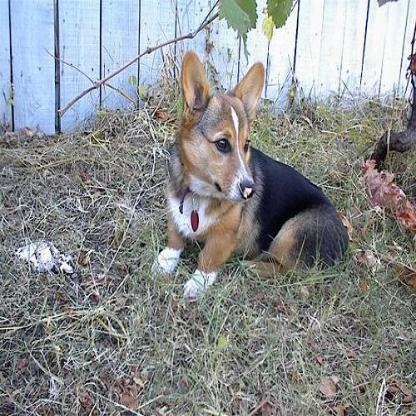Pembroke: (148, 47, 350, 297)
